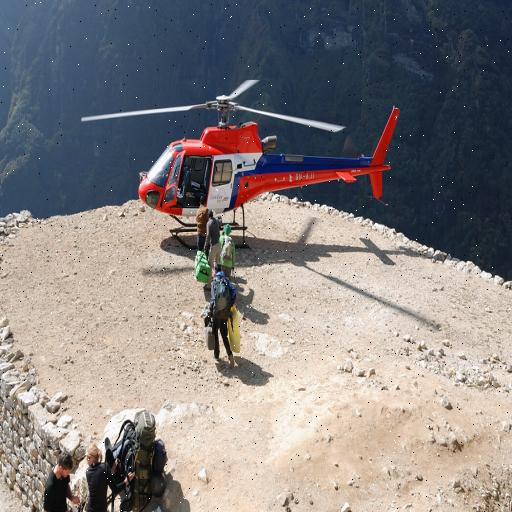helicopter: (87, 81, 411, 244)
